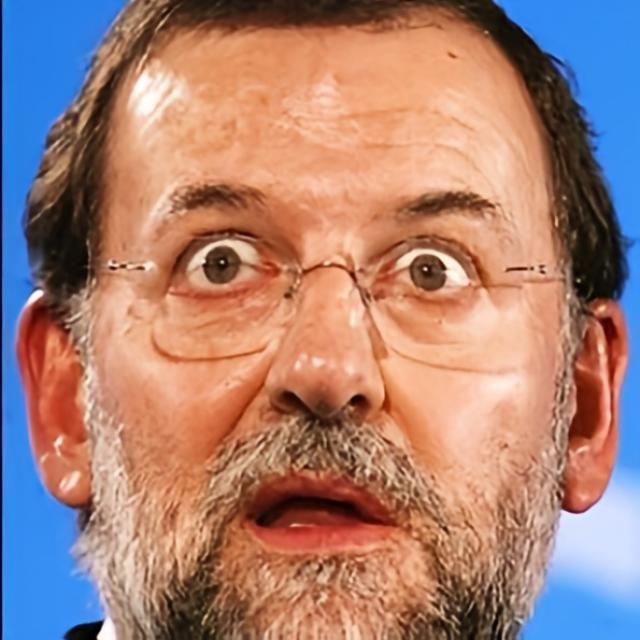fear: (93, 3, 564, 640)
